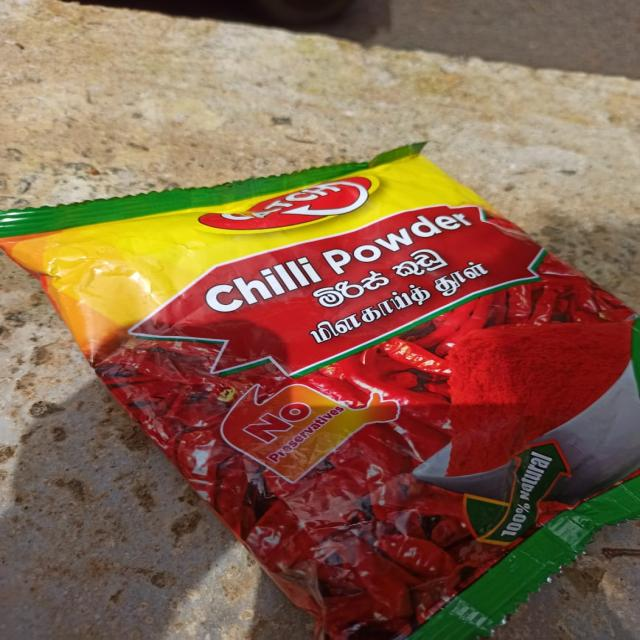Chilli Powder: (0, 137, 640, 640)
